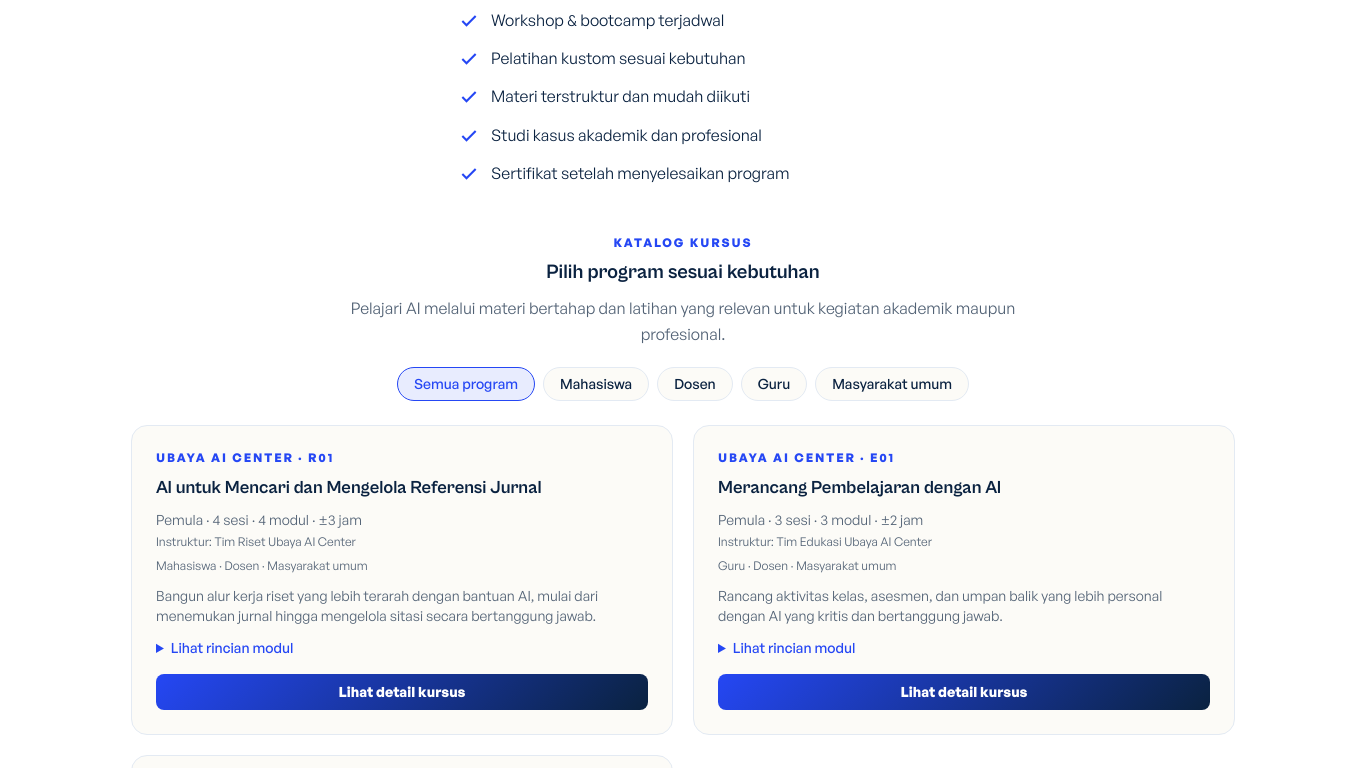
Scenario: LayananDetail › pelatihan: filter kategori menyaring kartu kursus (Guru → hanya E01, reset ke semua)
(page scrolled)
Click the button "Guru". click: (774, 384)
box: [741, 367, 807, 401]
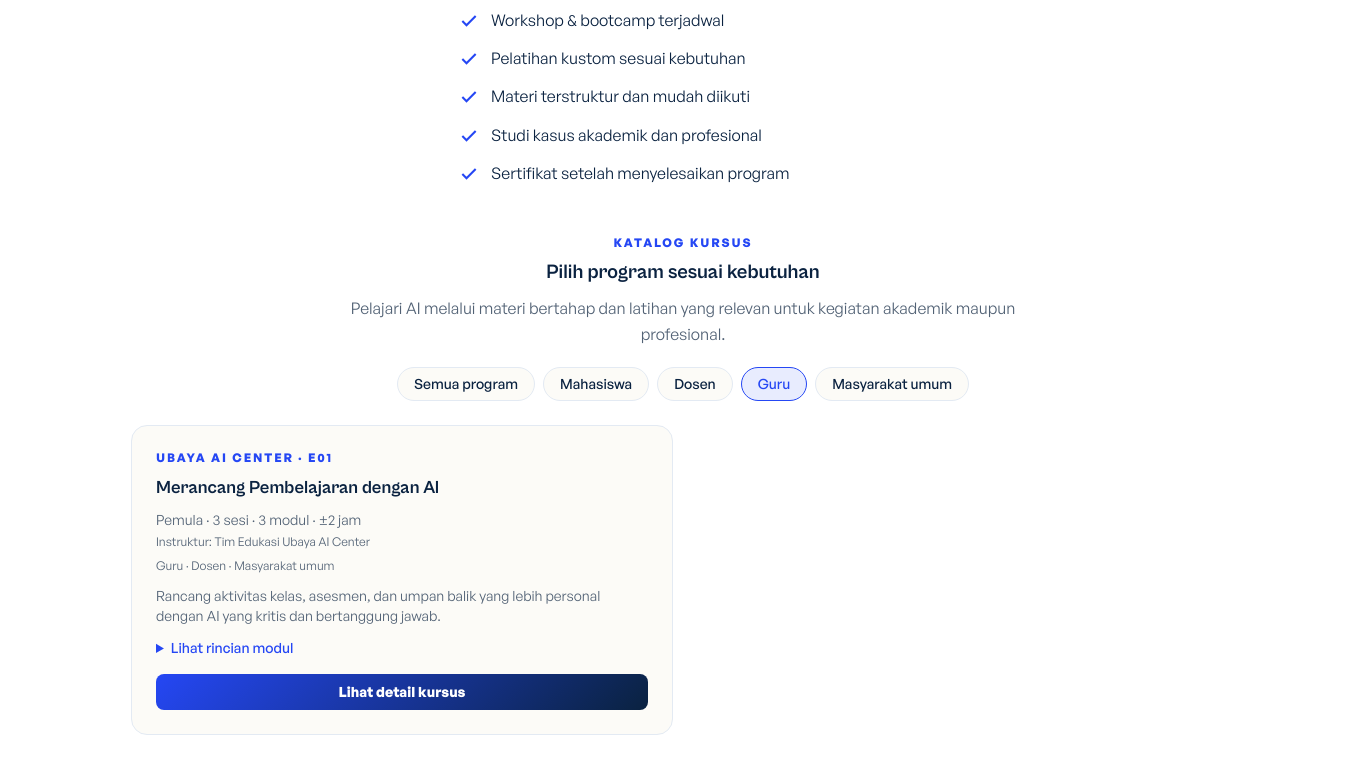
Expected: the heading "Merancang Pembelajaran dengan AI" is shown, [156, 477, 439, 498]
Expected: the button "Guru" is pressed, [741, 367, 807, 401]
Click the button "Semua program". click: (466, 384)
box: [397, 367, 535, 401]
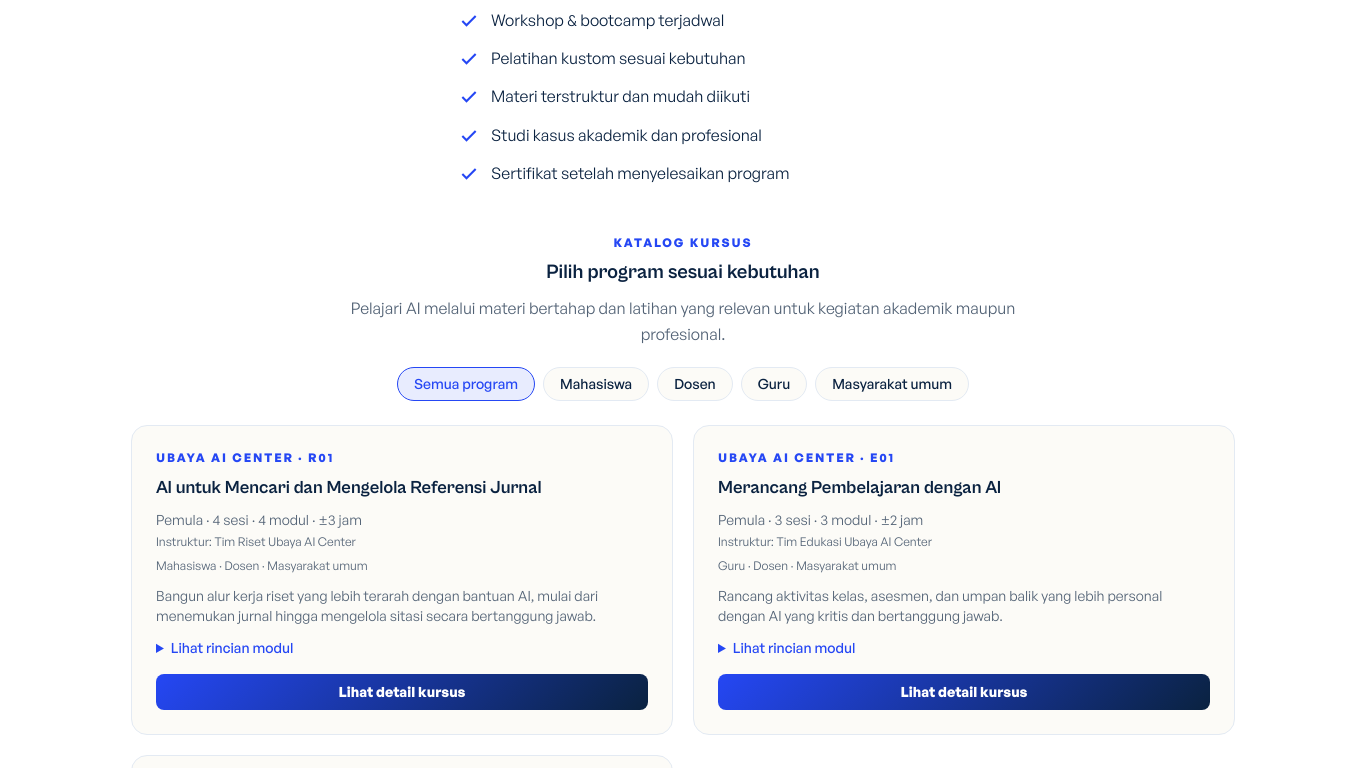
Expected: the heading "AI untuk Mencari dan Mengelola Referensi Jurnal" is shown, [156, 477, 542, 498]
